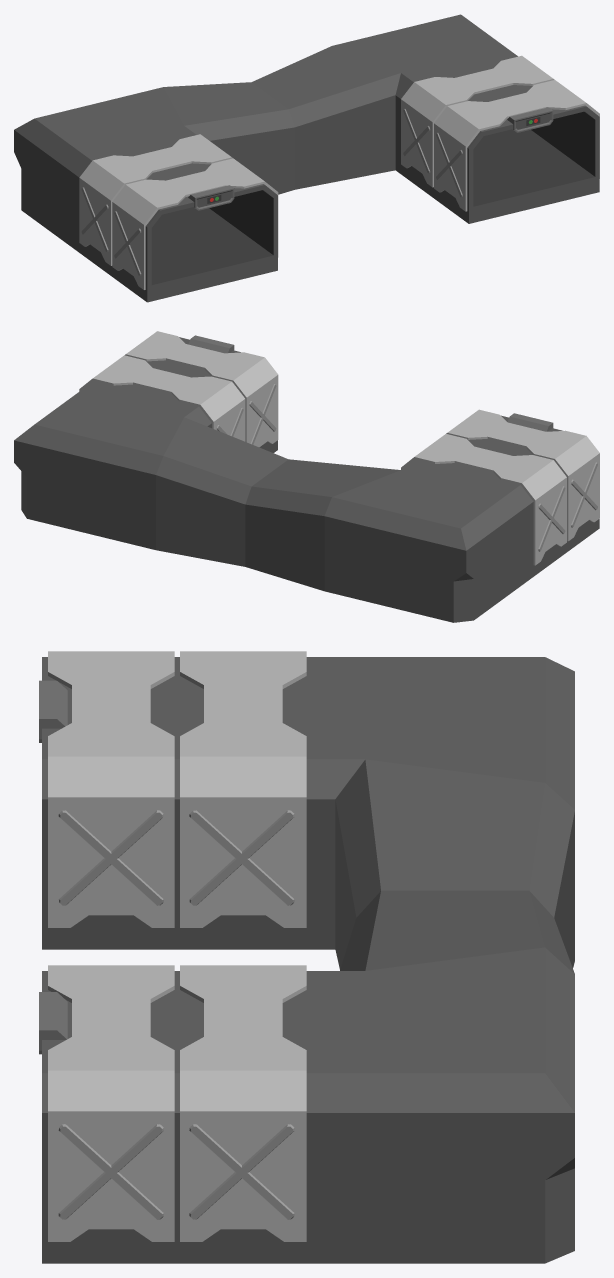
Rendered from hangar_003.fbx.
3 views of the same model, one above another, from view 1: azimuth 30°, elevation 25°; view 2: azimuth 150°, elevation 25°; view 3: azimuth 270°, elevation 25° (orthographic). The views are drawn at different scales.
Visible parts, largest first — view 1: hangar_003; view 2: hangar_003; view 3: hangar_003.
Part boxes in pixels (x1,y1,x2,y2): hangar_003: (14, 14, 599, 302); hangar_003: (14, 331, 599, 622); hangar_003: (39, 651, 574, 1263).
Size of the model in its own units: 3517 by 1783 by 687.
